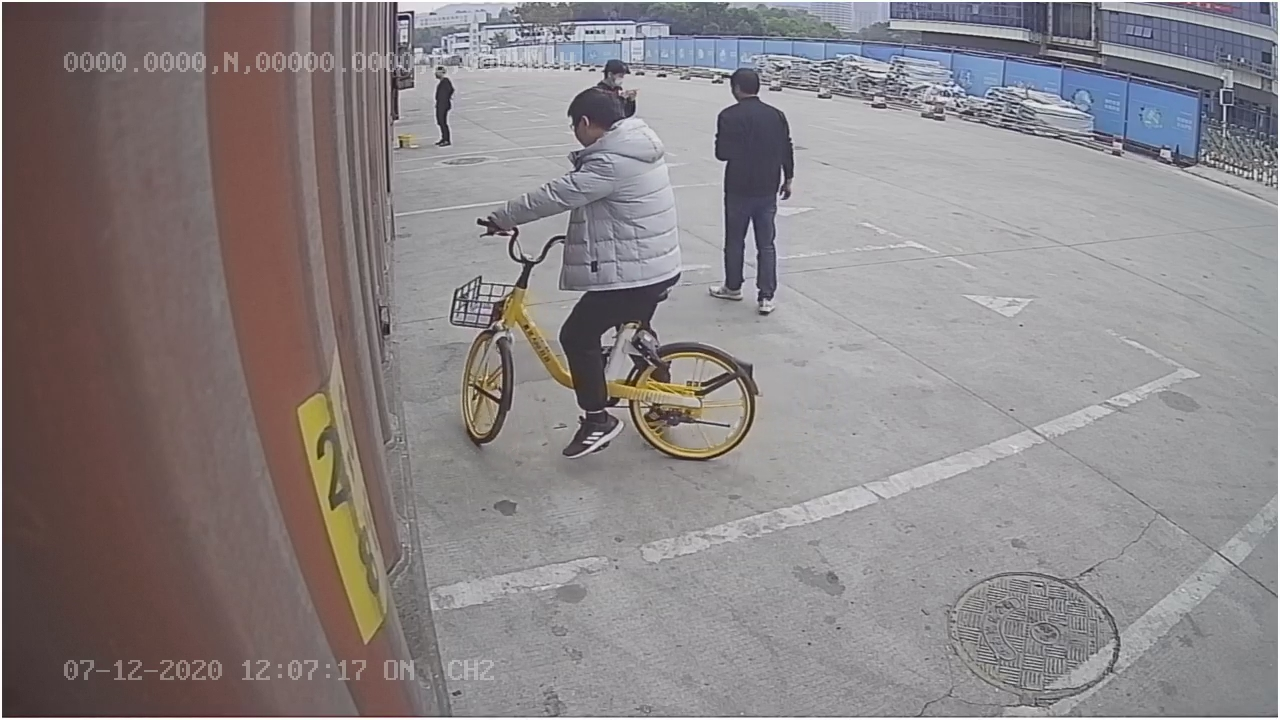person: (708, 63, 798, 315)
